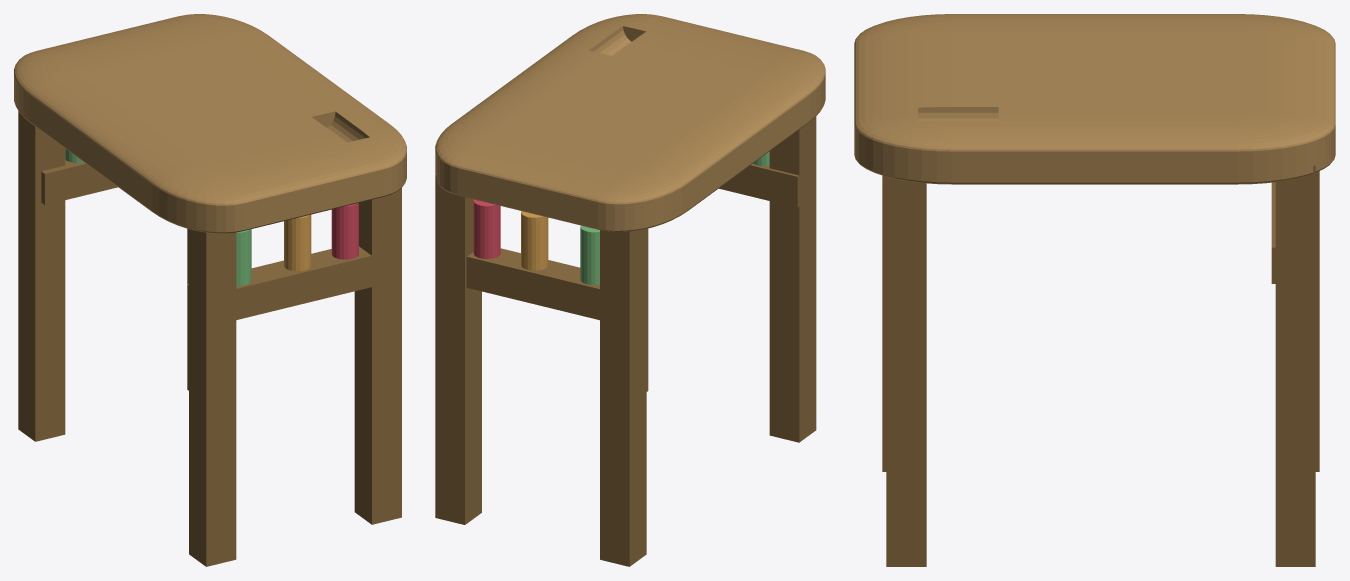
3 views of the same model, side by side, from view 1: azimuth 30°, elevation 25°; view 2: azimuth 150°, elevation 25°; view 3: azimuth 270°, elevation 25° (orthographic). The views are drawn at different scales.
Visible parts, largest first — view 1: Mesh_Mesh_head_geo.001_lambert2SG.001; view 2: Mesh_Mesh_head_geo.001_lambert2SG.001; view 3: Mesh_Mesh_head_geo.001_lambert2SG.001.
Boxes of the visible parts, x1,y1,x2,y2 form: Mesh_Mesh_head_geo.001_lambert2SG.001: (14, 14, 406, 566); Mesh_Mesh_head_geo.001_lambert2SG.001: (435, 14, 825, 566); Mesh_Mesh_head_geo.001_lambert2SG.001: (854, 14, 1335, 566).
Bounding box in the file's own units: 20 × 30 × 30.
